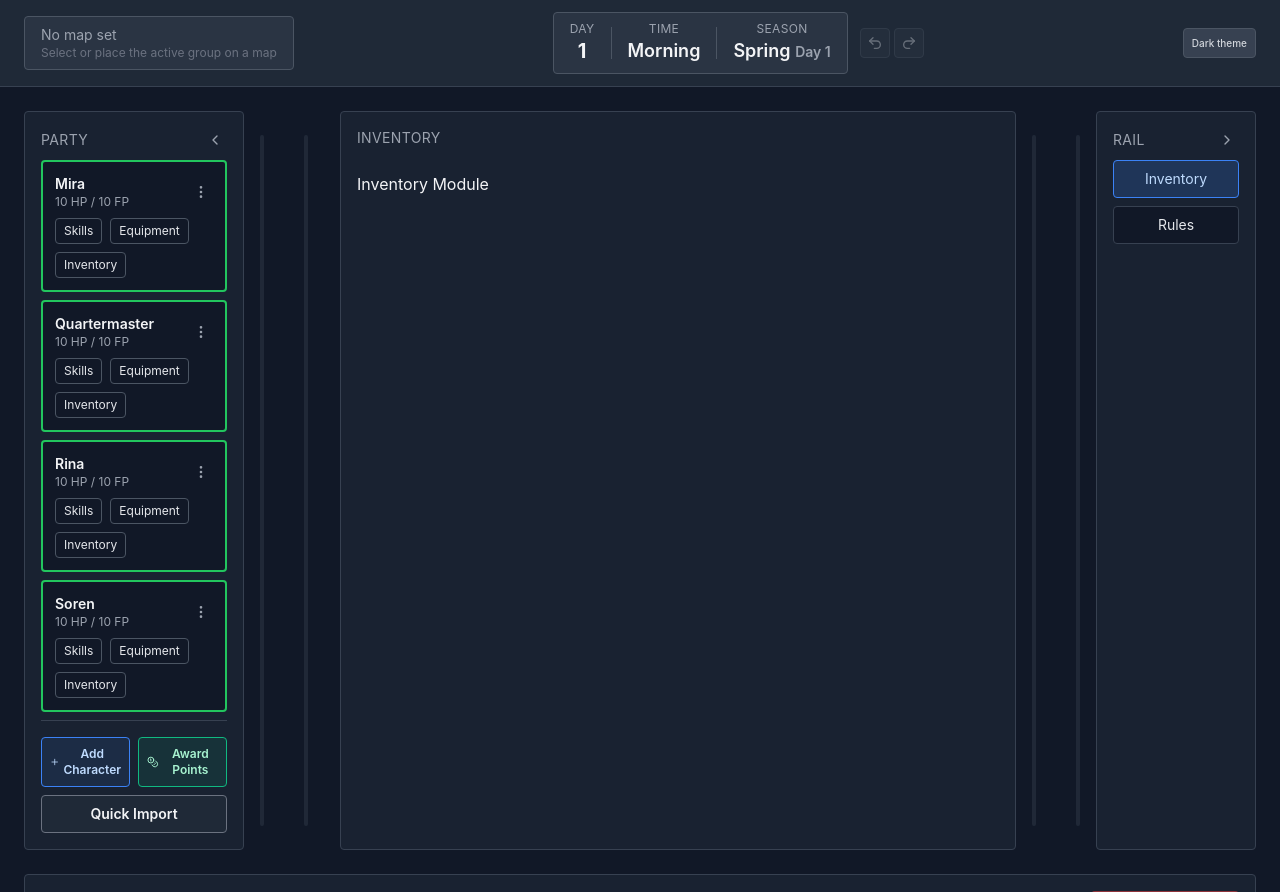
it: UnifiedShell module routing › shows Rules content after clicking Rules
Click the button with test id "rail-module-rules". click: click(1176, 225)
box: [1113,206,1239,244]
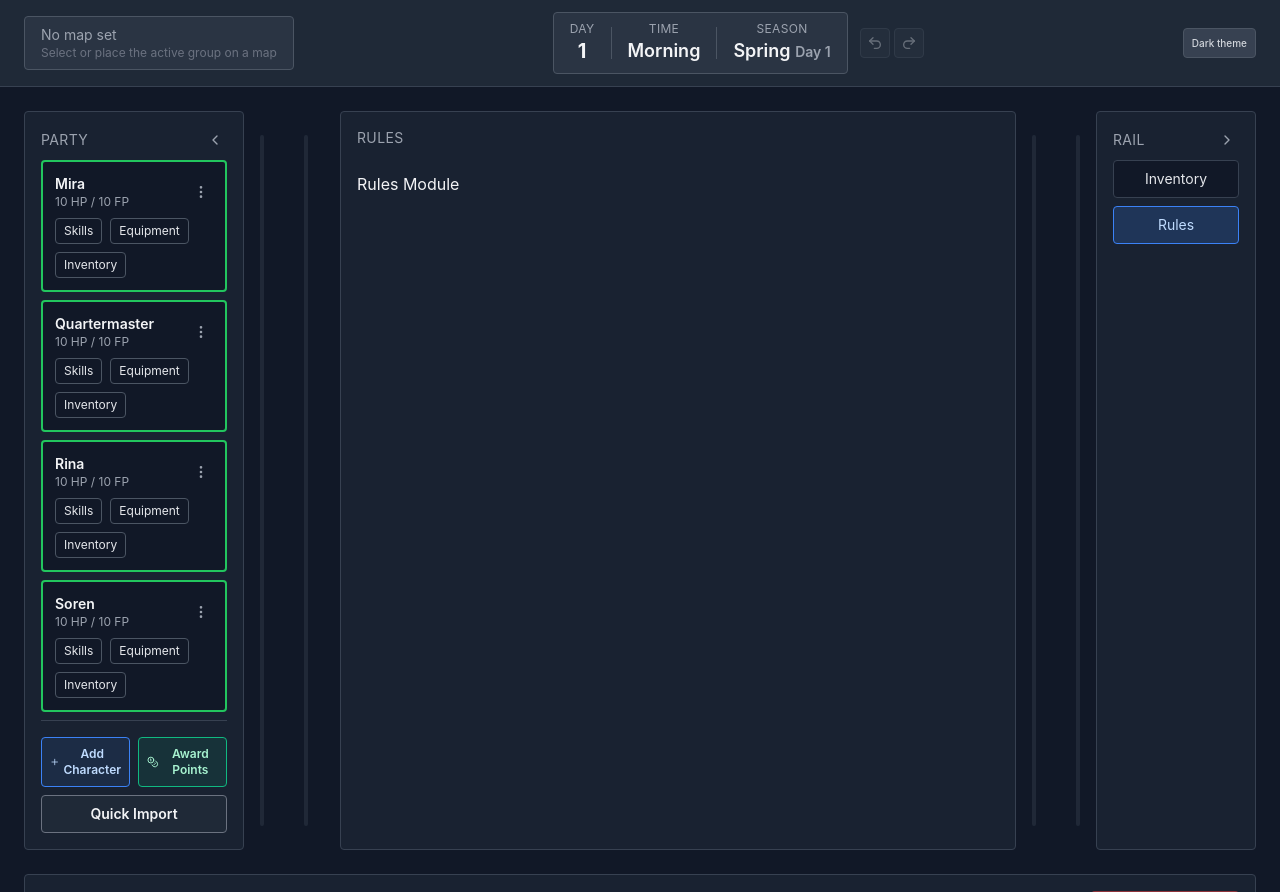
Check: the text "Rules Module" is shown, box [357,174,459,194]
